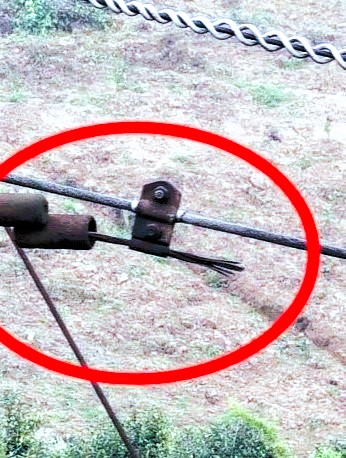Damage of shockproof hammer: (8, 166, 249, 283)
